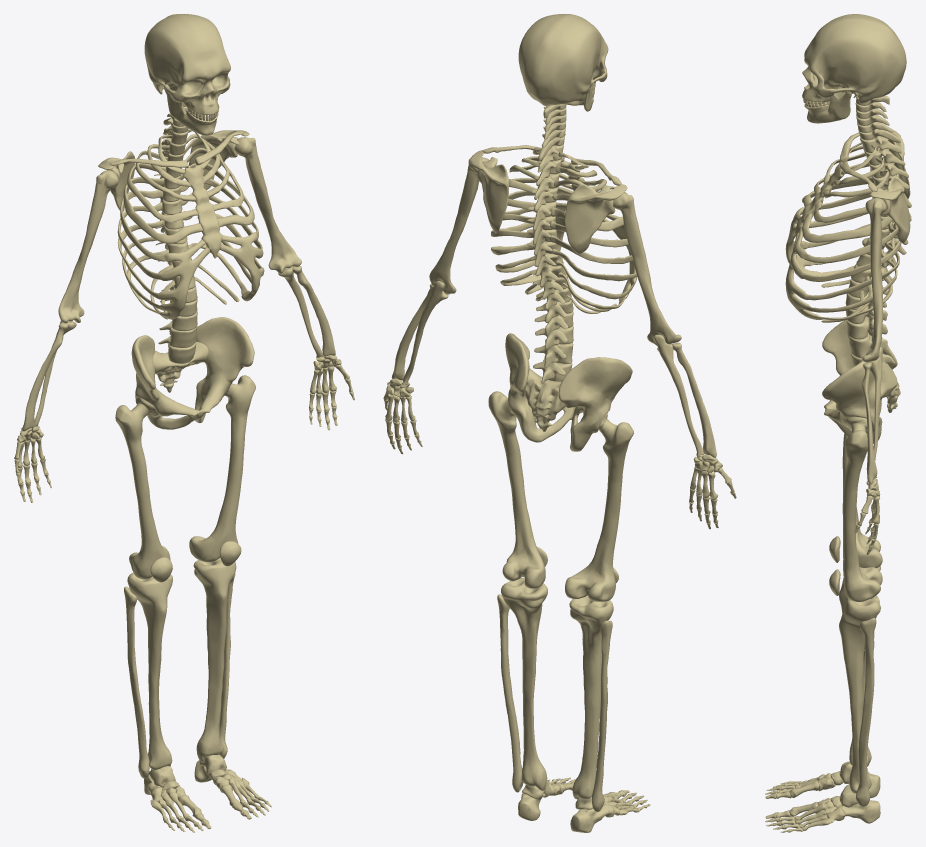
The model's file is male_human_skeleton.glb.
3 views of the same model, side by side, from view 1: azimuth 30°, elevation 25°; view 2: azimuth 150°, elevation 25°; view 3: azimuth 270°, elevation 25° (orthographic). The views are drawn at different scales.
Visible parts, largest first — view 1: Object_2; view 2: Object_2; view 3: Object_2.
Boxes of the visible parts, bbox=[...] form: Object_2: bbox=[14, 14, 354, 832]; Object_2: bbox=[383, 14, 736, 832]; Object_2: bbox=[765, 14, 911, 832].
Size of the model in its own units: 7.24 by 15.89 by 2.68.
